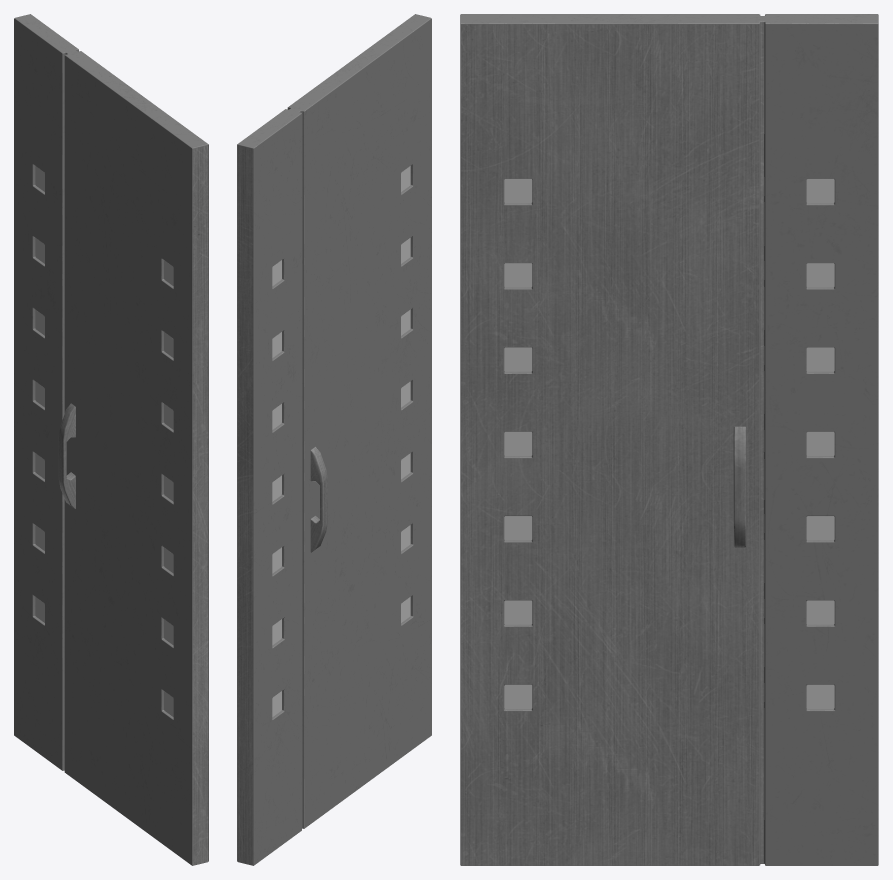
The model's file is SM_Door_01.fbx.
3 renders of one model, left to right at view 1: azimuth 30°, elevation 25°; view 2: azimuth 150°, elevation 25°; view 3: azimuth 270°, elevation 25°, orthographic. The views are drawn at different scales.
Parts seen in each view (by area): view 1: SM_Door_01_LOD0; view 2: SM_Door_01_LOD0; view 3: SM_Door_01_LOD0.
Part boxes in pixels (x1=…): SM_Door_01_LOD0: x1=14, y1=14, x2=208, y2=865; SM_Door_01_LOD0: x1=237, y1=14, x2=431, y2=865; SM_Door_01_LOD0: x1=460, y1=14, x2=878, y2=865.
Size of the model in its own units: 12.25 by 90 by 200.
